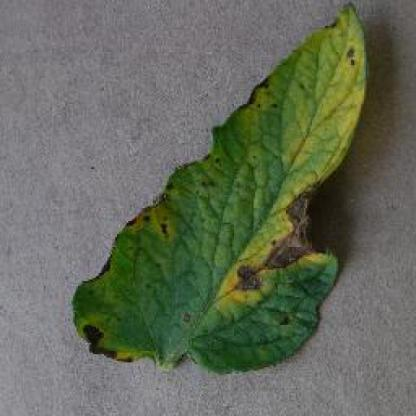Tomato_Blight: (72, 2, 372, 367)
